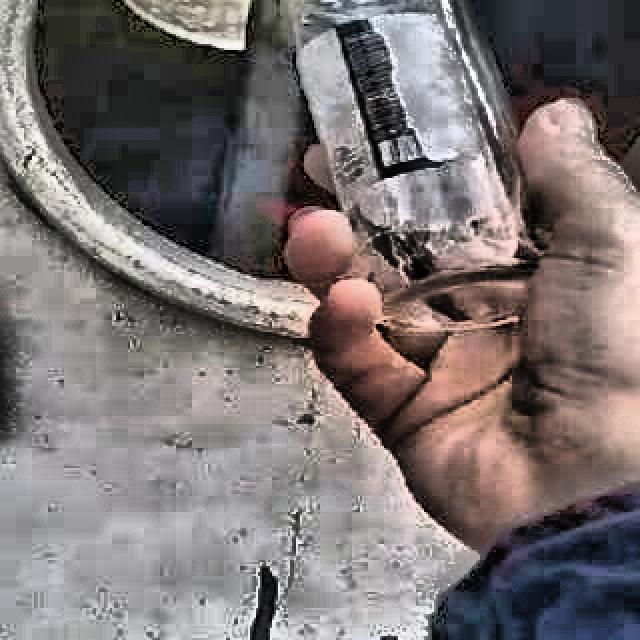glass: (283, 0, 541, 335)
